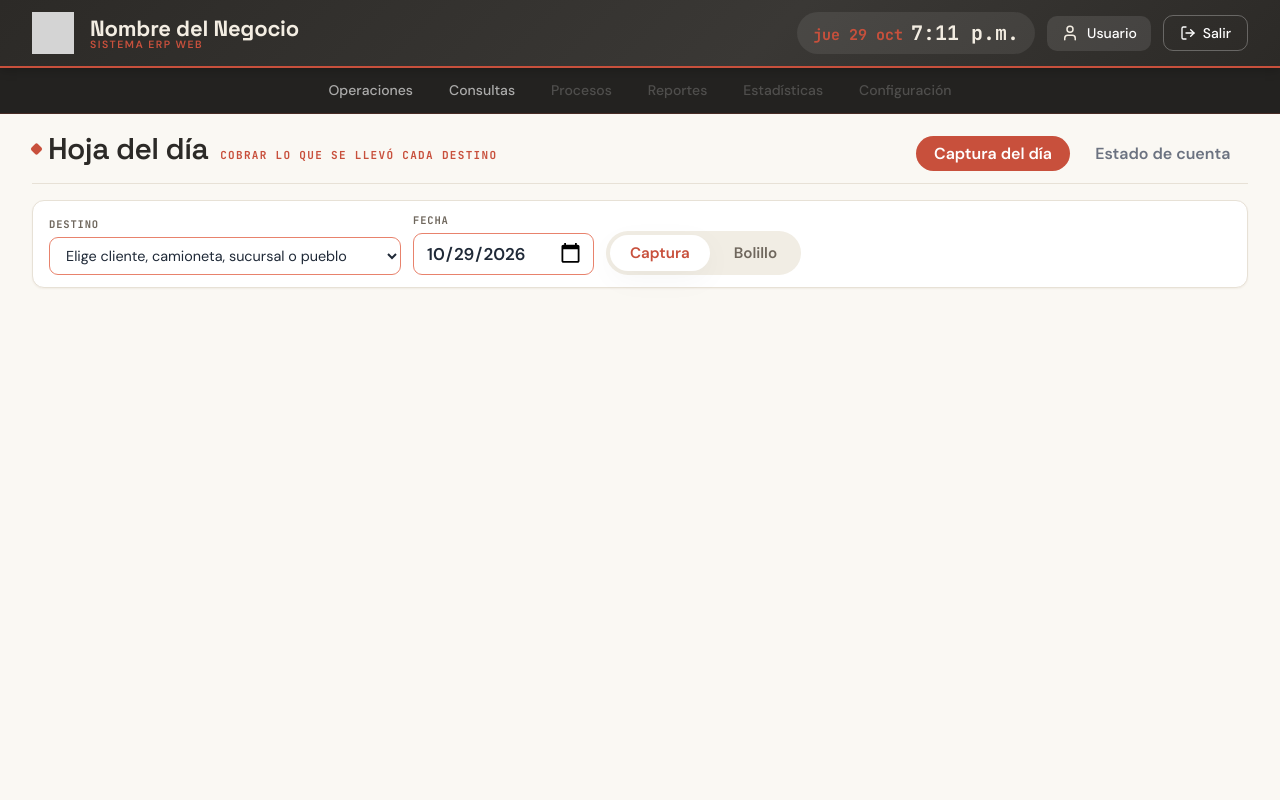
Test: HojaDelDia — cableado › 🔴 08-oct: totales por departamento con lo tecleado, arriba del total de la hoja
This screenshot has width=1280, height=800.
Step 1. Select "DELI · Sin capturar · $0.00" in the dropdown labelled "Destino" → (225, 256), box [49,237,401,275]
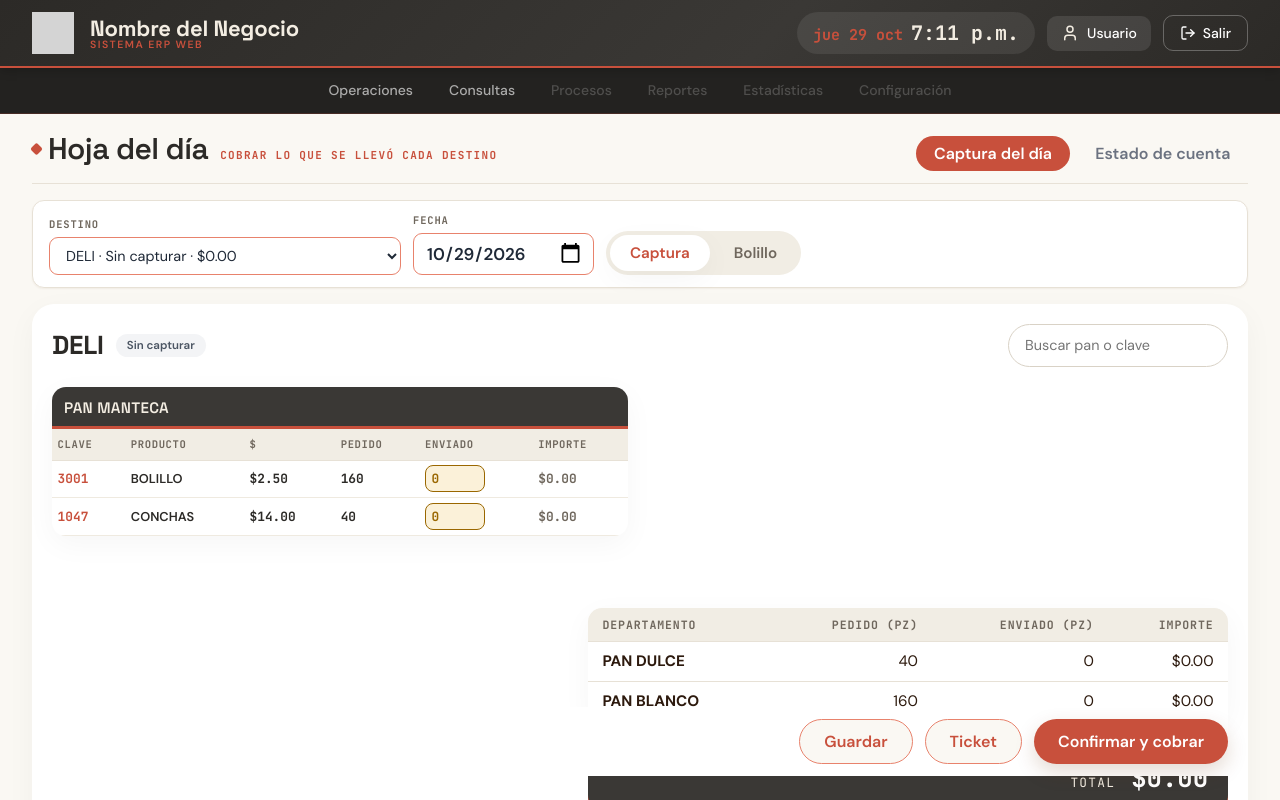
Step 2. Replace the text in the number field named "Enviado CONCHAS" with "30" → (455, 516), box [425,503,485,530]
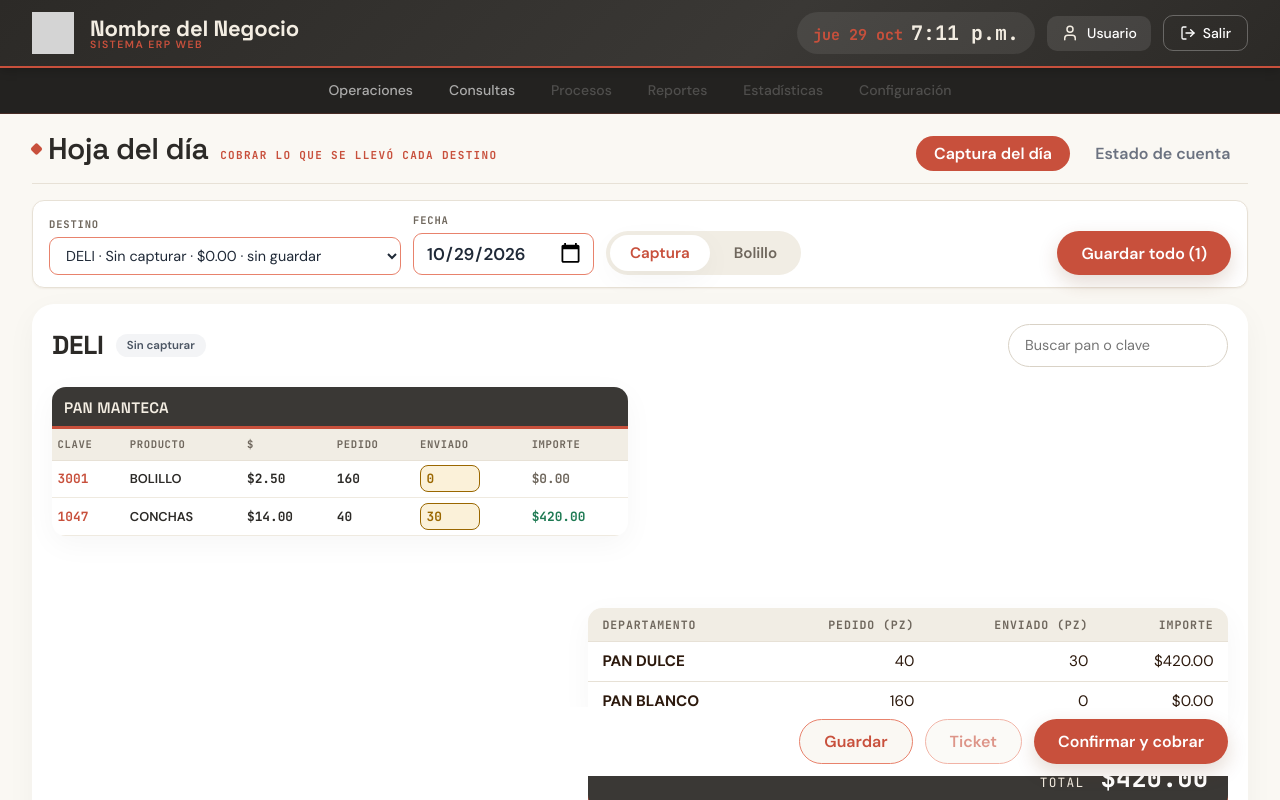
Step 3. Replace the text in the number field named "Enviado BOLILLO" with "144" → (450, 479), box [420,465,480,492]
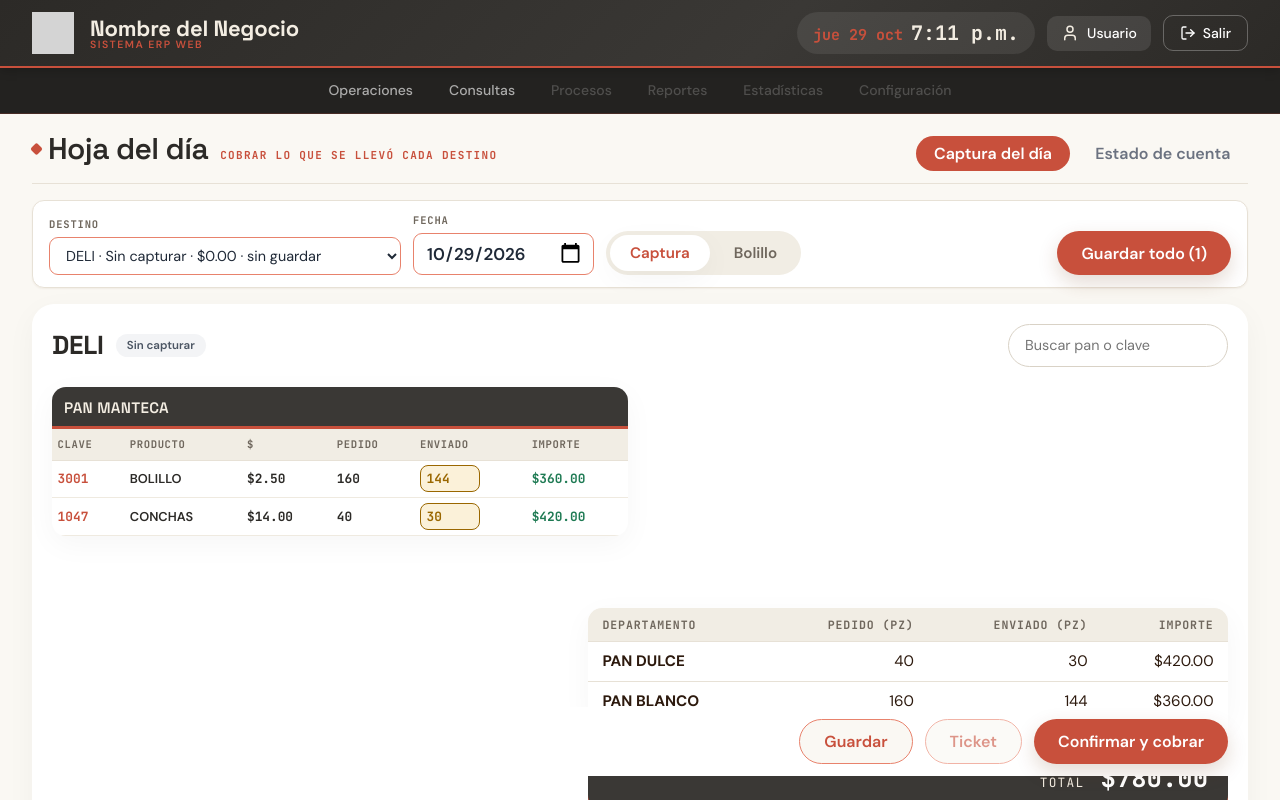
Expected: the text "$780.00" is shown, [1100,759,1208,797]
